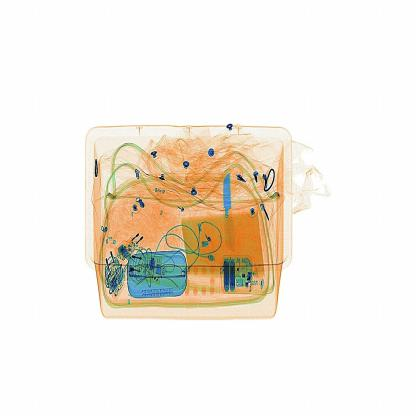wrench: (214, 162, 244, 255)
